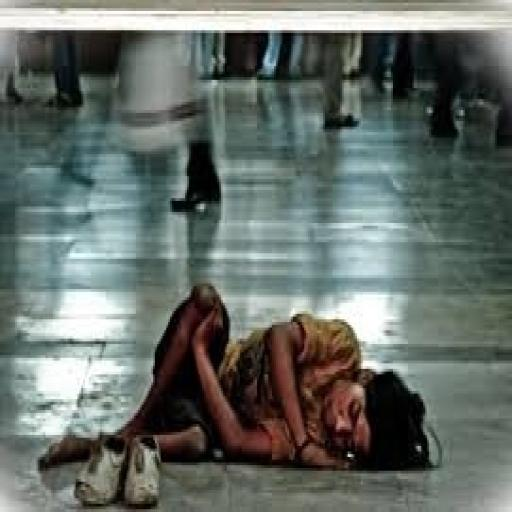sleeping: (36, 278, 440, 479)
